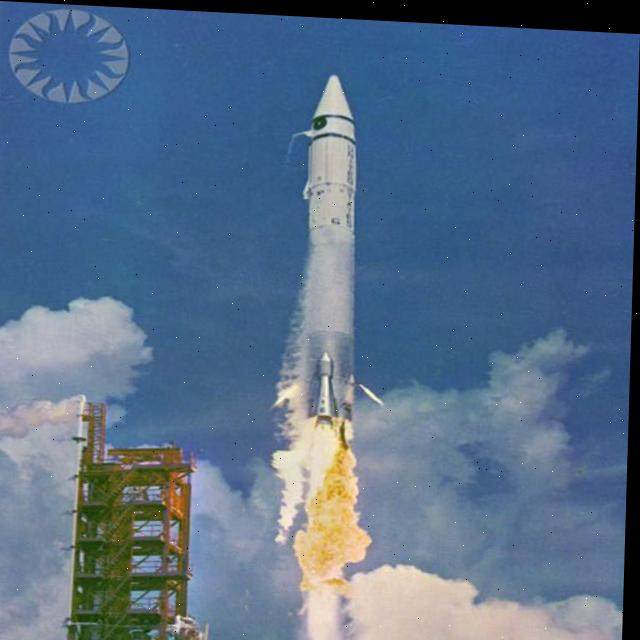missile: (292, 68, 383, 429)
